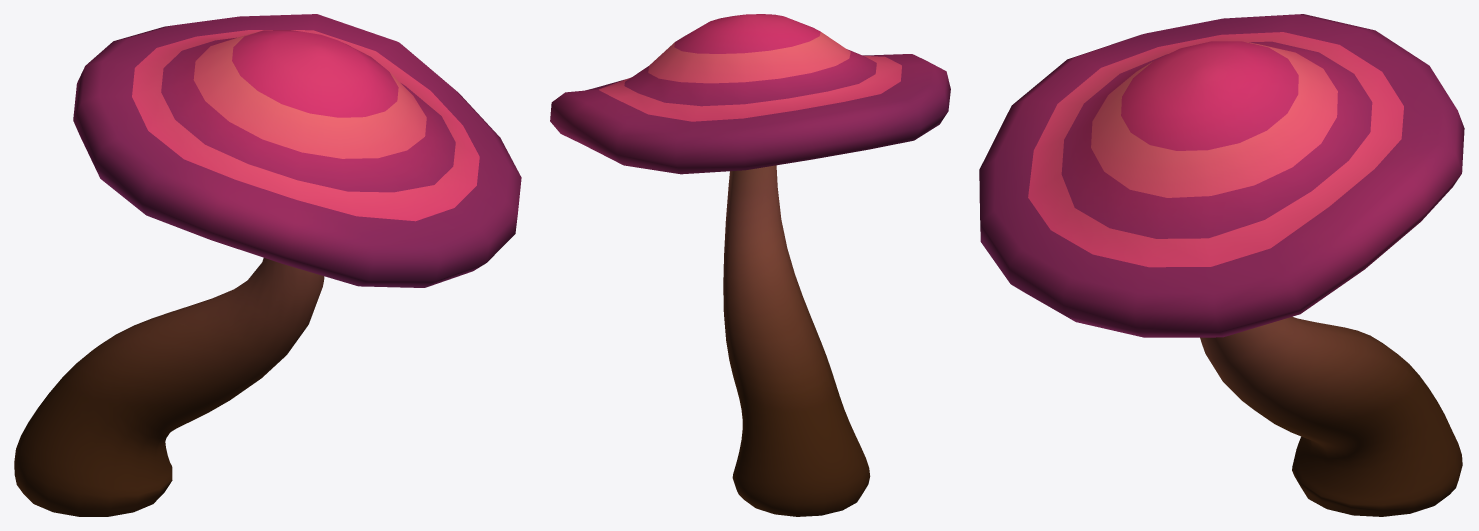
File: Fungus-1-2.fbx
3 views of the same model, side by side, from view 1: azimuth 30°, elevation 25°; view 2: azimuth 150°, elevation 25°; view 3: azimuth 270°, elevation 25° (orthographic). The views are drawn at different scales.
Parts seen in each view (by area): view 1: Fungus-1-2; view 2: Fungus-1-2; view 3: Fungus-1-2.
Part boxes in pixels (x1,y1,x2,y2): Fungus-1-2: (14,14,521,516); Fungus-1-2: (550,14,950,516); Fungus-1-2: (979,14,1464,516).
Size of the model in its own units: 47.59 by 52.78 by 47.1.
